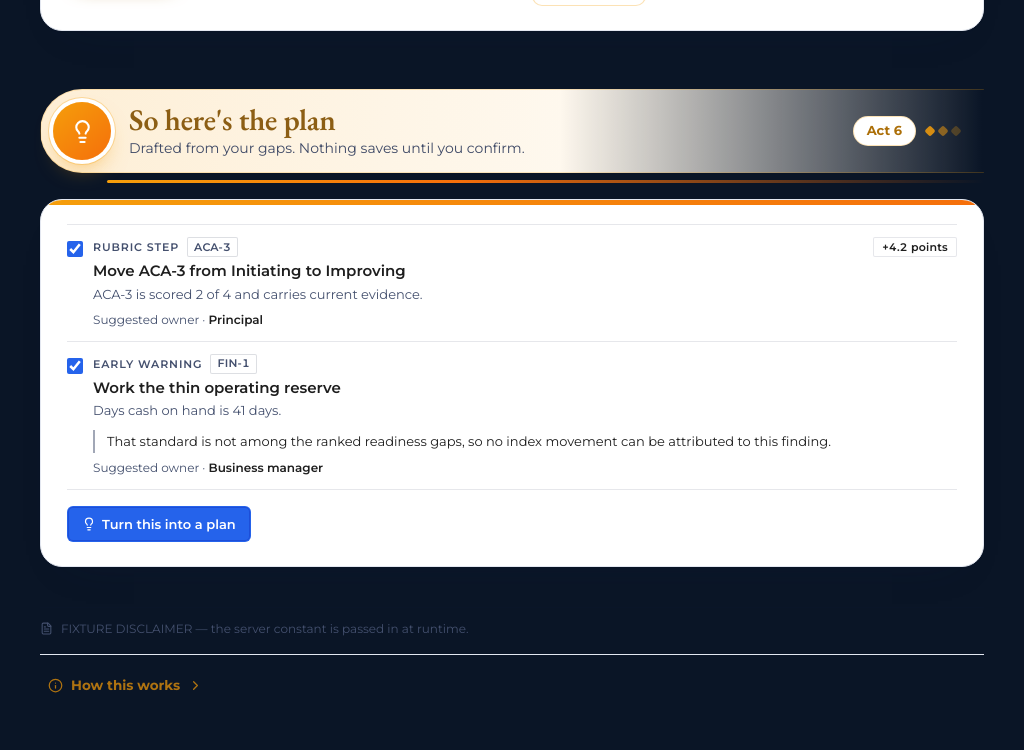
Test case: SPEC-WEB-9 — the per-row adopt report survives the automatic refetch › Cancel dismisses the report and re-syncs the draft
This screenshot has width=1024, height=750.
(page scrolled)
Click the button "Turn this into a plan" at point(159, 524), box [67,506,251,542]
(page scrolled)
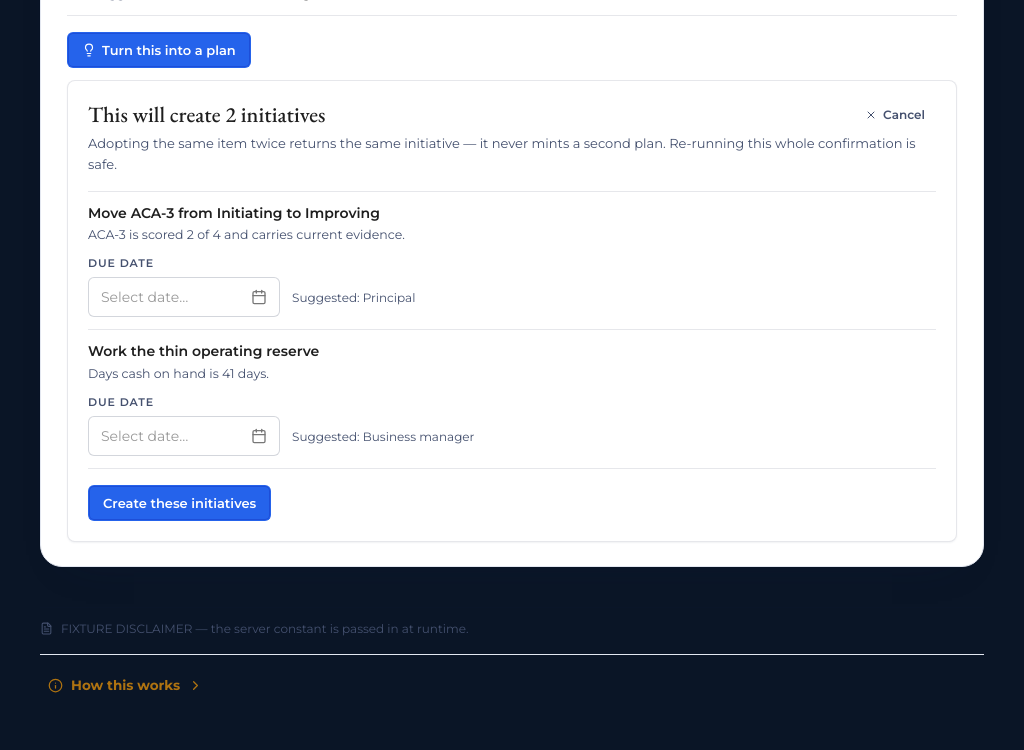
Expected: the element with test id "plan-confirm" is shown, [67,80,957,542]
Click the button "Create these initiatives" at point(180, 503), box [88,485,271,521]
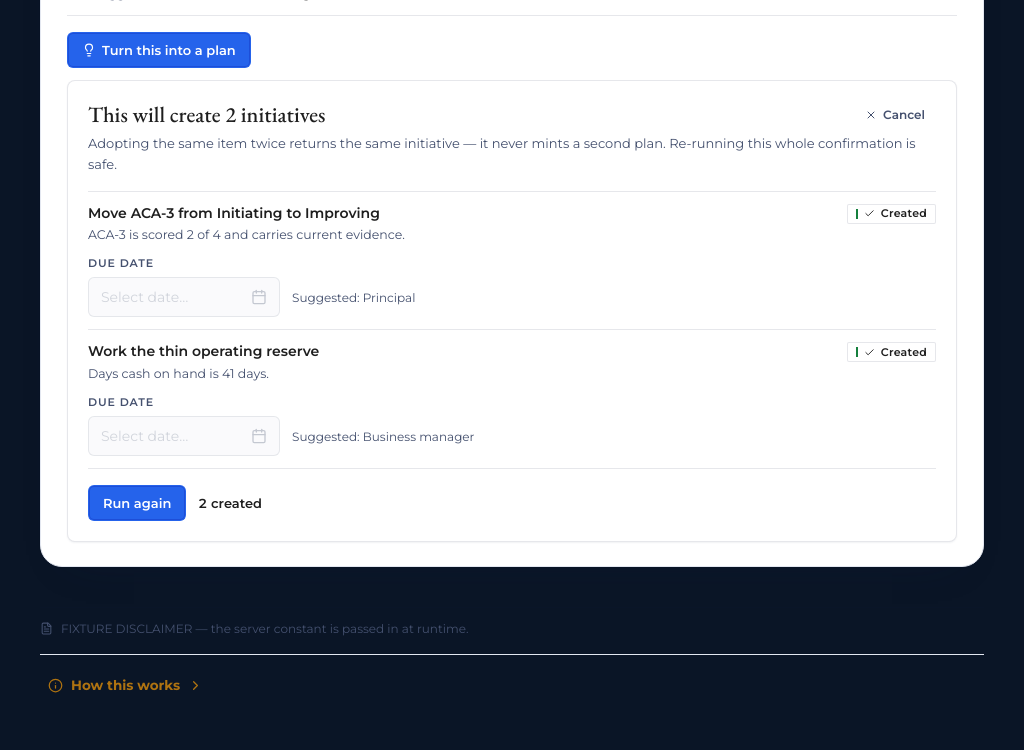
Expected: the text "2 created" is shown, [198,494,262,512]
Click the button "Cancel" at point(895, 115), box [854,101,936,129]
(page scrolled)
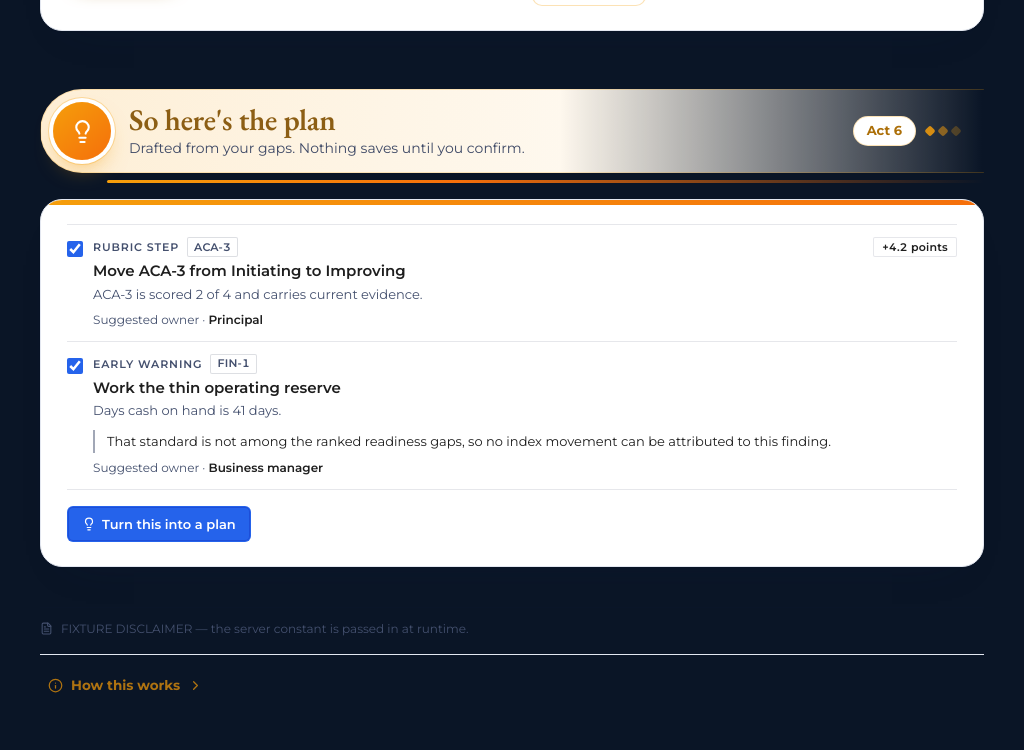
Expected: the button "Turn this into a plan" is shown, [67,506,251,542]
Expected: the element with test id "plan-confirm" is gone
